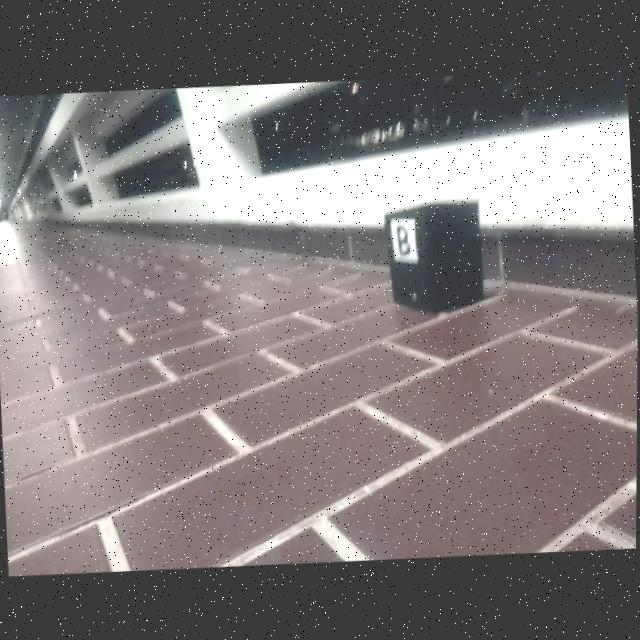B: (397, 223, 413, 256)
